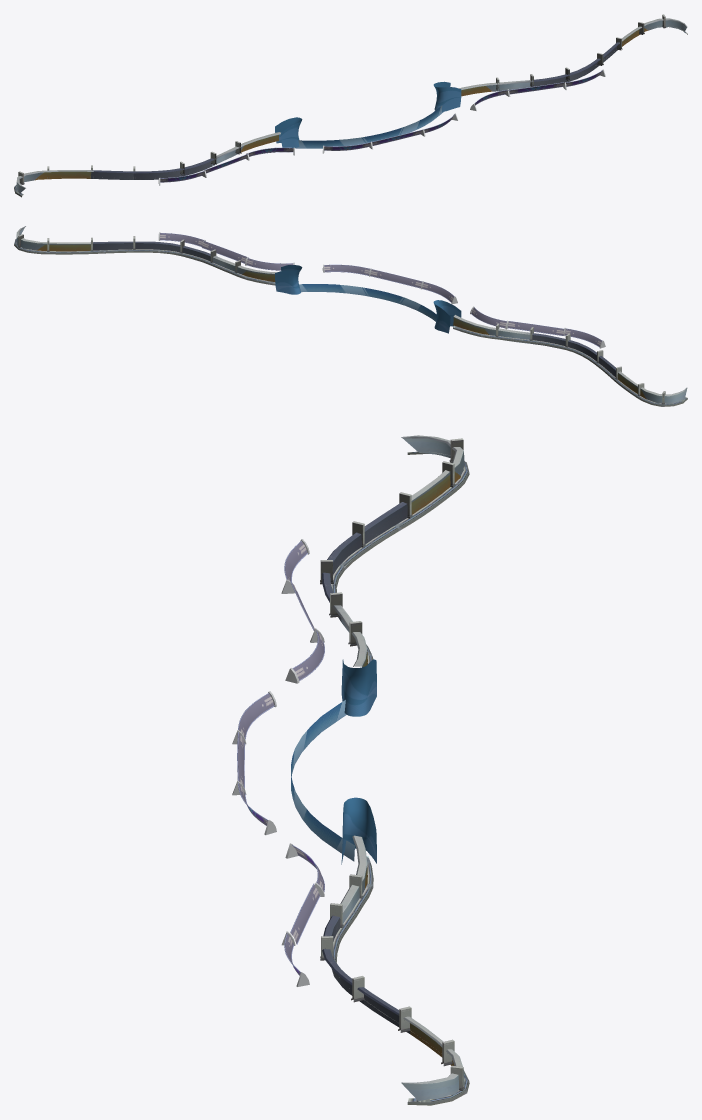
Rendered from pref_sm_beach_bk_pointmol_topbuild03_lv1.fbx.
The picture shows the model from 3 angles, top to bottom: view 1: azimuth 30°, elevation 25°; view 2: azimuth 150°, elevation 25°; view 3: azimuth 270°, elevation 25°; orthographic projection. The views are drawn at different scales.
Visible parts, largest first — view 1: sm_beach_bk_pointmol_topbuild03c_lv1, sm_beach_bk_pointmol_topbuild03e_lv1, sm_beach_bk_pointmol_topbuild03b_lv1; view 2: sm_beach_bk_pointmol_topbuild03c_lv1, sm_beach_bk_pointmol_topbuild03b_lv1, sm_beach_bk_pointmol_topbuild03e_lv1; view 3: sm_beach_bk_pointmol_topbuild03c_lv1, sm_beach_bk_pointmol_topbuild03e_lv1, sm_beach_bk_pointmol_topbuild03b_lv1.
Boxes of the visible parts, box(x1,y1,x2,y2) form: sm_beach_bk_pointmol_topbuild03c_lv1: box(14, 14, 687, 197); sm_beach_bk_pointmol_topbuild03e_lv1: box(275, 81, 461, 148); sm_beach_bk_pointmol_topbuild03b_lv1: box(158, 69, 605, 185); sm_beach_bk_pointmol_topbuild03c_lv1: box(14, 226, 687, 406); sm_beach_bk_pointmol_topbuild03b_lv1: box(158, 232, 605, 348); sm_beach_bk_pointmol_topbuild03e_lv1: box(275, 265, 461, 333); sm_beach_bk_pointmol_topbuild03c_lv1: box(320, 435, 469, 1105); sm_beach_bk_pointmol_topbuild03e_lv1: box(291, 659, 376, 864); sm_beach_bk_pointmol_topbuild03b_lv1: box(232, 539, 324, 986).
Bounding box in the file's own units: 125 × 4.77 × 19.25.
